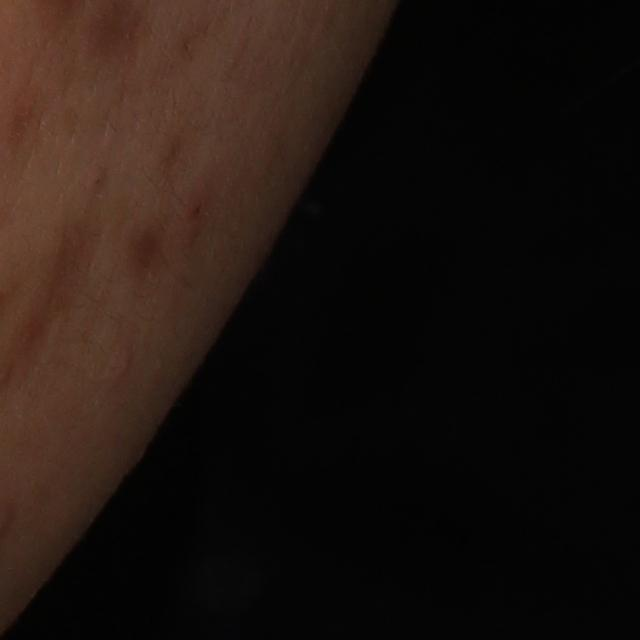papule: (108, 344, 141, 392)
